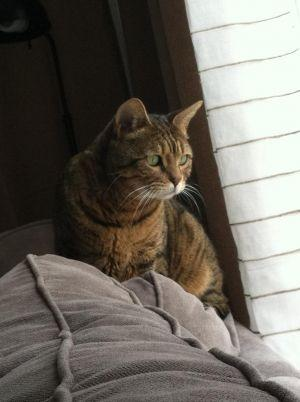bengal: (104, 92, 205, 210)
